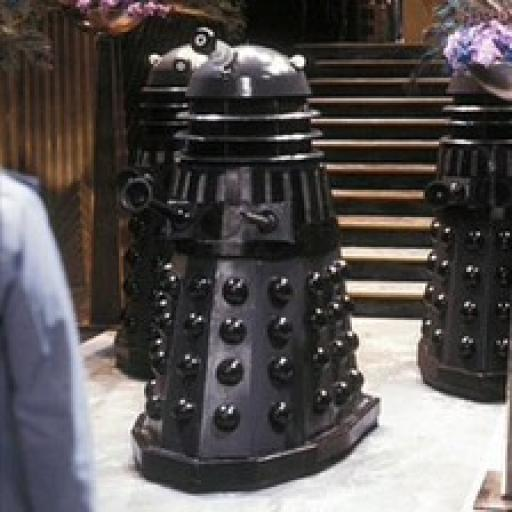dalek: (119, 24, 384, 494), (114, 41, 215, 378), (419, 42, 512, 404)
